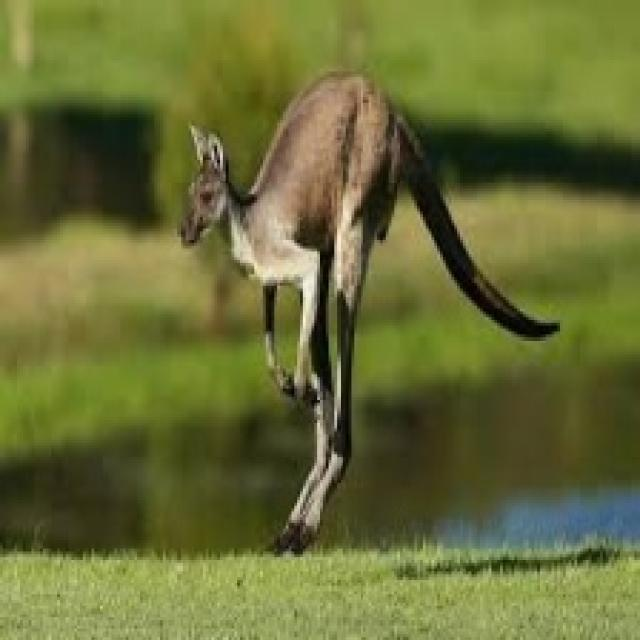bear: (119, 71, 571, 574)
